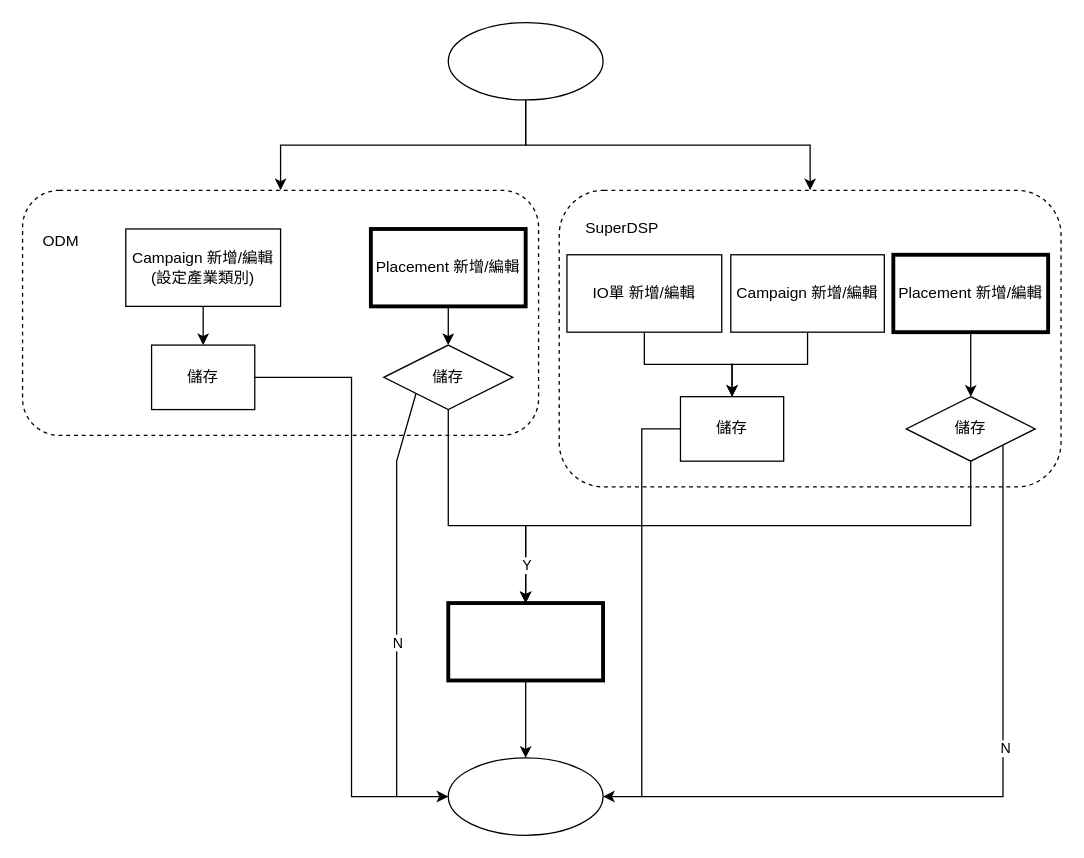
The diagram is 1084 pixels wide and 858 high, and some of its shapes have lost their labels. Each missing label, with the box of its shape:
End: (447, 757, 603, 835)
Start: (447, 21, 603, 100)
更新 Sequence: (446, 600, 604, 682)
